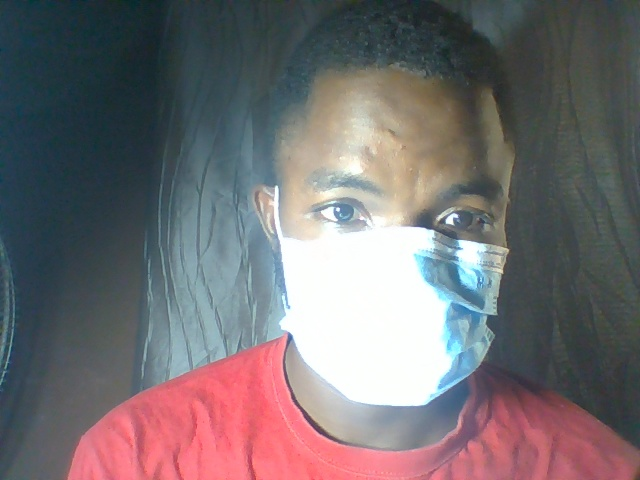MaskOn: (246, 4, 546, 425)
